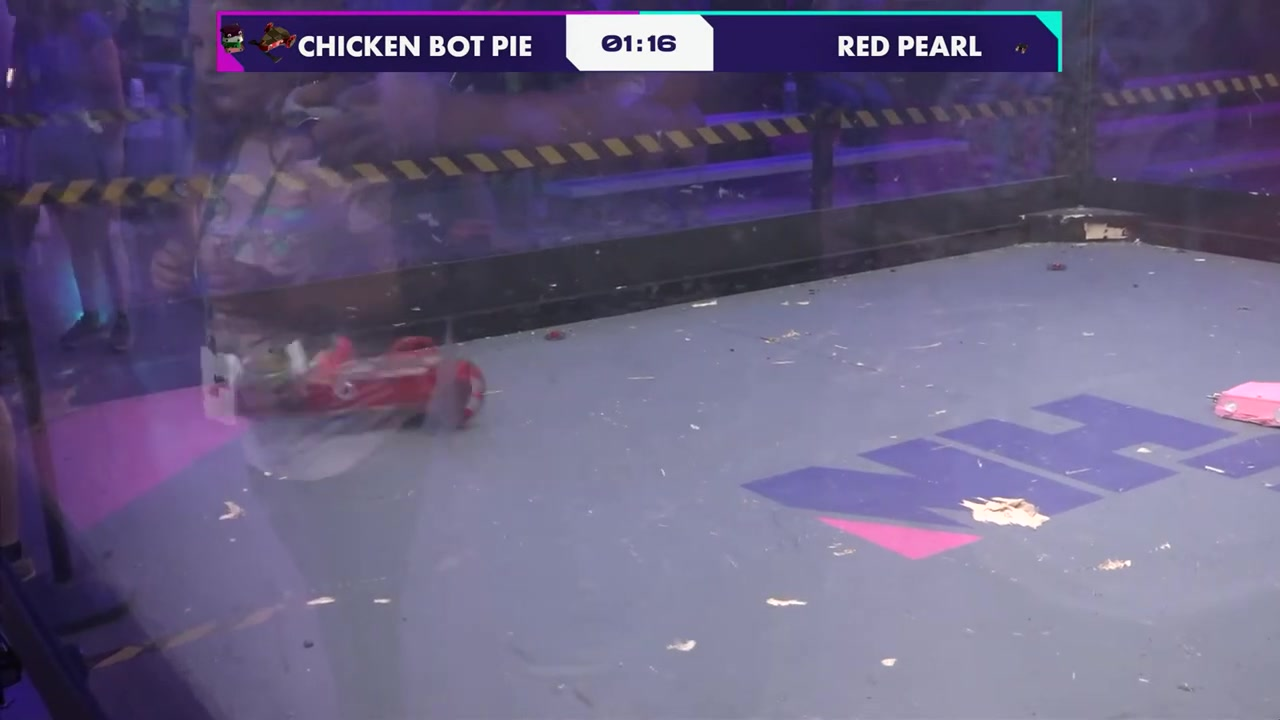combatbot: (218, 335, 487, 436)
debris: (1209, 380, 1280, 433)
